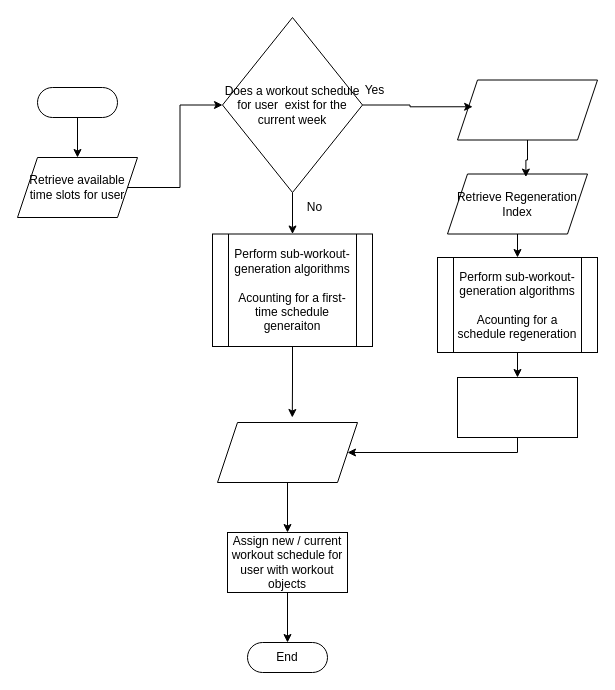
Some shapes in this 615 by 690 pixel diagram are drawn without their labels. Each missing label, with the box of its shape:
Regeneraiton Index += 1: (456, 376, 578, 438)
Retrieve new workout objects generated: (216, 422, 358, 482)
Retrieve workout schedule workout slots that are marked completed: (456, 79, 598, 140)
Start: (36, 86, 118, 118)
